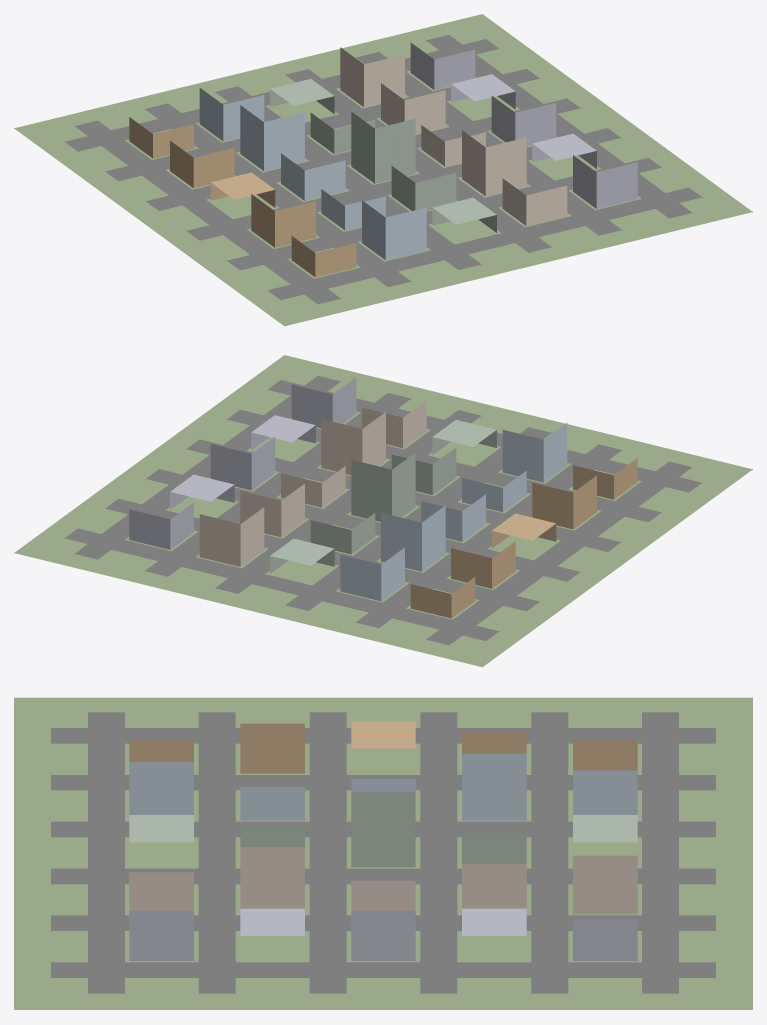
The model's file is test_city.glb.
3 views of the same model, one above another, from view 1: azimuth 30°, elevation 25°; view 2: azimuth 150°, elevation 25°; view 3: azimuth 270°, elevation 25° (orthographic). The views are drawn at different scales.
Parts seen in each view (by area): view 1: Ground, Road_H_5, Road_V_0, Building_2_2, Building_3_3, Building_1_1, Road_V_5, Road_V_4, Road_V_3, Building_4_1, Road_H_3, Road_H_0 (+26 smaller); view 2: Ground, Road_H_0, Road_V_0, Building_2_2, Road_V_3, Road_V_5, Building_1_1, Building_3_3, Road_V_4, Building_0_3, Building_4_1, Road_V_1 (+26 smaller); view 3: Ground, Road_H_2, Road_H_3, Road_H_1, Road_H_4, Road_H_5, Road_H_0, Road_V_5, Road_V_2, Road_V_3, Road_V_0, Road_V_4 (+26 smaller).
Boxes of the visible parts, x1=… form: Ground: x1=14, y1=14, x2=752, y2=326; Road_H_5: x1=267, y1=187, x2=702, y2=299; Road_V_0: x1=74, y1=120, x2=340, y2=304; Building_2_2: x1=351, y1=112, x2=415, y2=183; Building_3_3: x1=462, y1=130, x2=526, y2=196; Building_1_1: x1=240, y1=105, x2=304, y2=171; Road_V_5: x1=425, y1=35, x2=692, y2=218; Road_V_4: x1=355, y1=52, x2=622, y2=235; Road_V_3: x1=285, y1=69, x2=551, y2=252; Building_4_1: x1=362, y1=200, x2=426, y2=260; Road_H_3: x1=186, y1=128, x2=620, y2=240; Road_H_0: x1=64, y1=39, x2=499, y2=151; Ground: x1=14, y1=355, x2=752, y2=667; Road_H_0: x1=64, y1=528, x2=499, y2=640; Road_V_0: x1=426, y1=461, x2=692, y2=645; Building_2_2: x1=351, y1=453, x2=415, y2=521; Road_V_3: x1=215, y1=410, x2=481, y2=593; Road_V_5: x1=74, y1=376, x2=341, y2=559; Building_1_1: x1=381, y1=505, x2=445, y2=571; Building_3_3: x1=321, y1=412, x2=385, y2=474; Road_V_4: x1=144, y1=393, x2=411, y2=576; Building_0_3: x1=199, y1=507, x2=264, y2=566; Building_4_1: x1=502, y1=422, x2=567, y2=482; Road_V_1: x1=355, y1=444, x2=622, y2=627; Ground: x1=14, y1=697, x2=752, y2=1009; Road_H_2: x1=420, y1=712, x2=457, y2=993; Road_H_3: x1=309, y1=712, x2=346, y2=993; Road_H_1: x1=531, y1=712, x2=568, y2=993; Road_H_4: x1=198, y1=712, x2=235, y2=993; Road_H_5: x1=88, y1=712, x2=124, y2=993; Road_H_0: x1=642, y1=712, x2=678, y2=993; Road_V_5: x1=51, y1=962, x2=715, y2=977; Road_V_2: x1=51, y1=821, x2=715, y2=837; Road_V_3: x1=51, y1=868, x2=715, y2=884; Road_V_0: x1=51, y1=728, x2=715, y2=743; Road_V_4: x1=51, y1=915, x2=715, y2=930.
Bounding box in the file's own units: 80 × 9.1 × 80.
